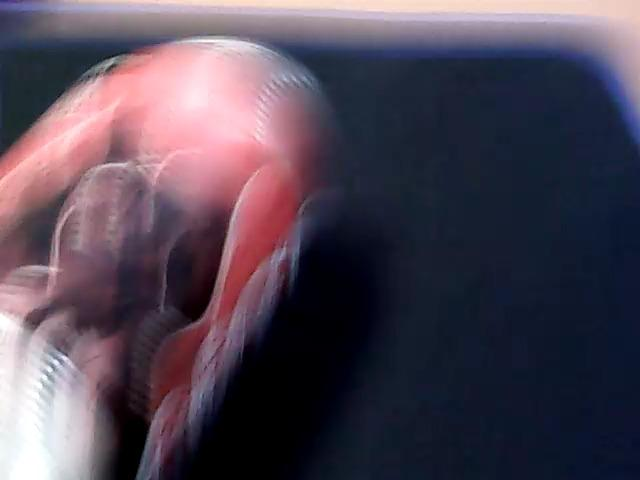coke: (0, 34, 348, 480)
